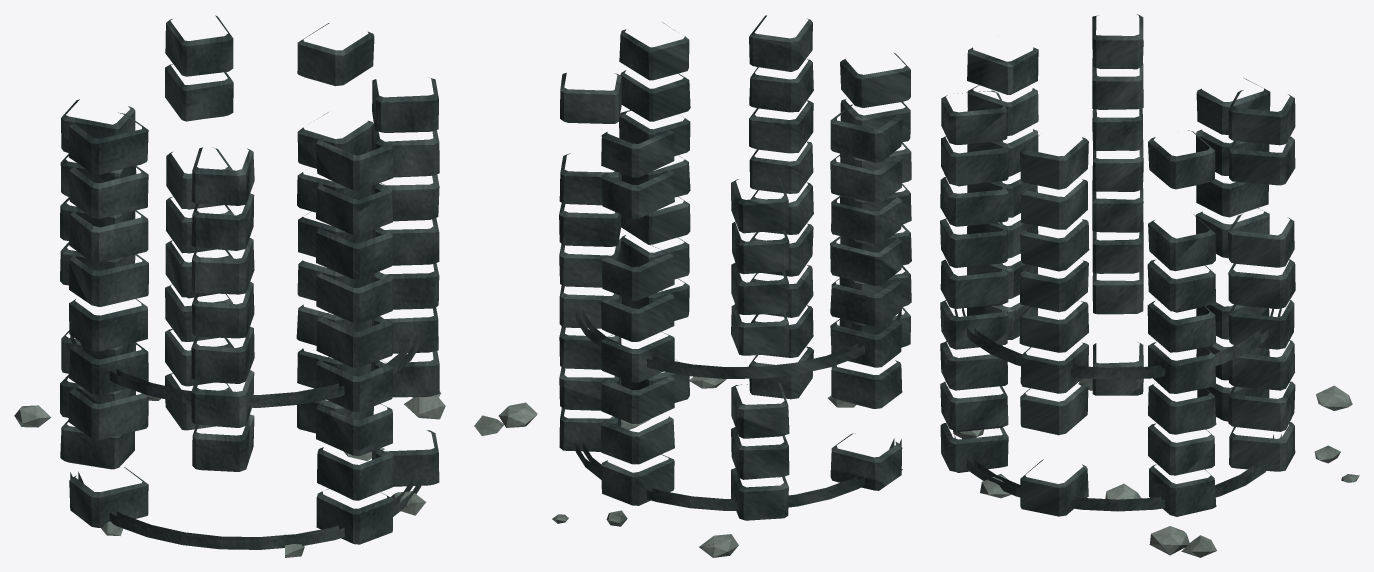
The model's file is 0402_ruined_tower_02.glb.
3 views of the same model, side by side, from view 1: azimuth 30°, elevation 25°; view 2: azimuth 150°, elevation 25°; view 3: azimuth 270°, elevation 25° (orthographic). The views are drawn at different scales.
Parts seen in each view (by area): view 1: stone_dark, stone; view 2: stone_dark, stone; view 3: stone_dark, stone.
Part boxes in pixels (box(x1,y1,x2,y2)): stone_dark: box(60, 15, 439, 549); stone: box(14, 391, 445, 557); stone_dark: box(559, 15, 911, 520); stone: box(474, 376, 902, 557); stone_dark: box(940, 14, 1295, 516); stone: box(953, 378, 1359, 557).
Size of the model in its own units: 3.99 by 3.78 by 3.91.
Materials: 2 (2 with a texture image).
